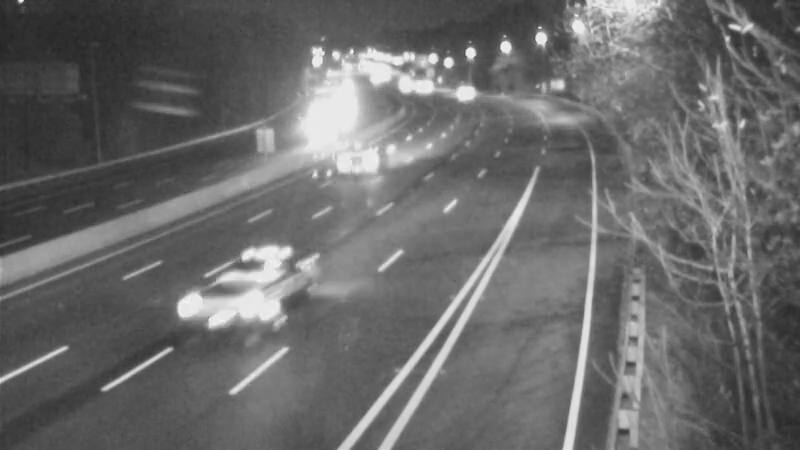vehicle: (147, 256, 257, 366), (436, 62, 486, 112), (337, 121, 387, 171), (296, 109, 346, 159)
